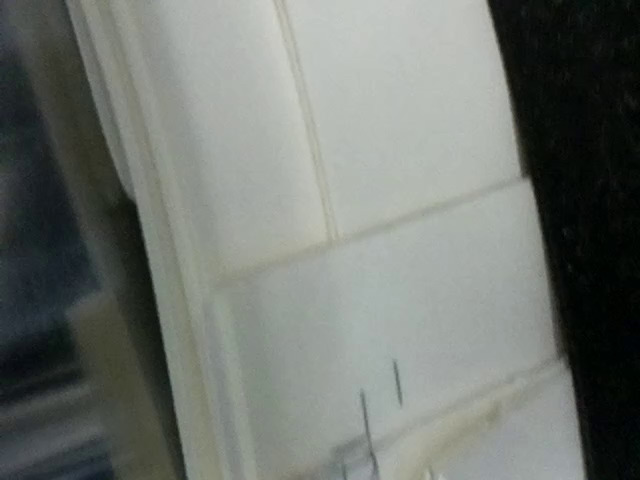not_sure: (266, 383, 389, 480)
